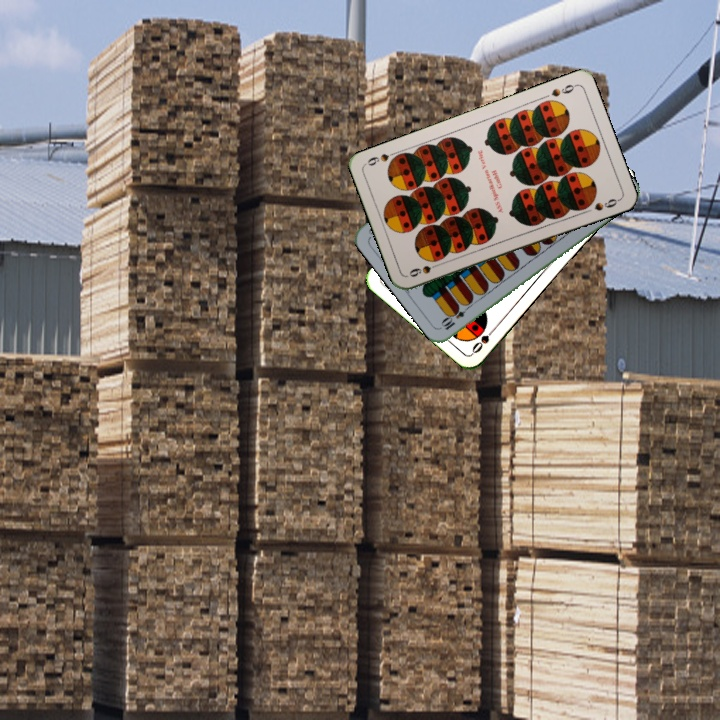E10: (438, 300, 473, 333)
S9: (405, 258, 444, 280), (547, 80, 579, 99)
SO: (468, 322, 499, 356)
